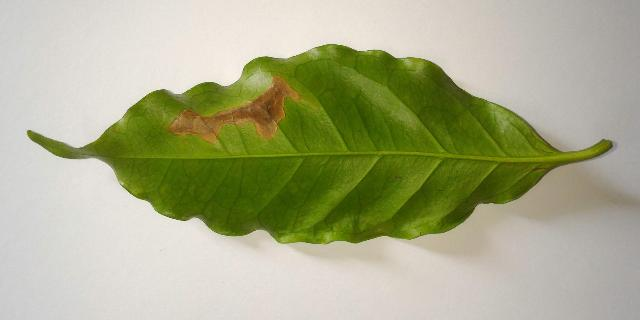cercospora: (167, 75, 301, 144)
